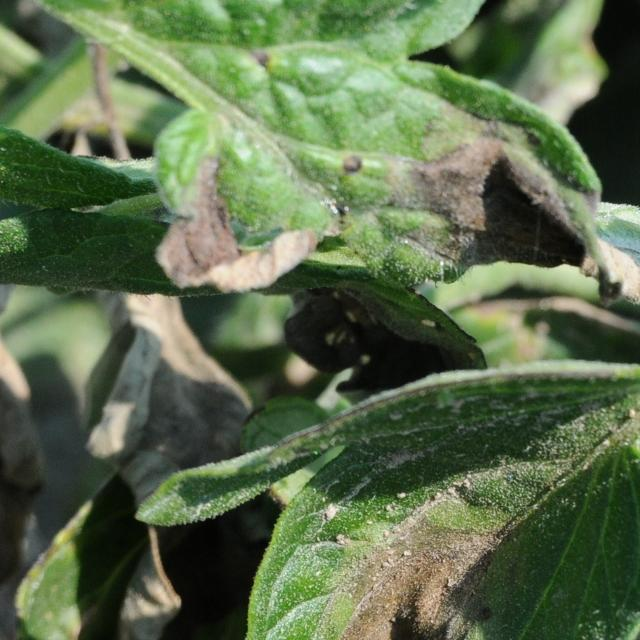Tomato leaf late blight: (90, 0, 588, 327), (208, 355, 640, 640)
